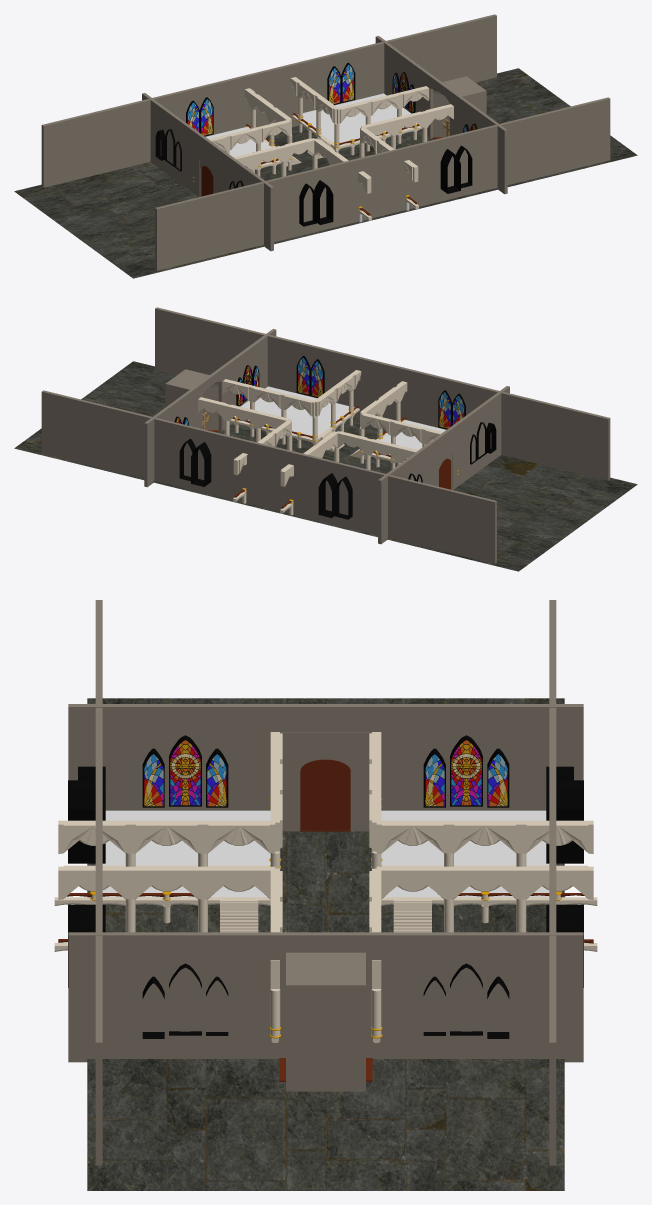
File: Eglise.v4.fbx
3 renders of one model, top to bottom at view 1: azimuth 30°, elevation 25°; view 2: azimuth 150°, elevation 25°; view 3: azimuth 270°, elevation 25°, orthographic. The views are drawn at different scales.
Parts seen in each view (by area): view 1: Cube.007, Cube.003, Plane, Cube.017, Cube.022, Cube.004, Cube.018, Cube.005, vitreaudroit.006, Cube.015, vitreaudroit.007, vitreaugauche (+4 smaller); view 2: Cube.003, Cube.007, Plane, Cube.017, Cube.022, Cube.004, Cube.027, Cube.005, vitreaudroit.001, Cube.016, vitreaudroit.008, vitreaugauche.005 (+4 smaller); view 3: Plane, Cube.004, Cube.022, Cube.017, Cube.005, Cube.015, Cube.016, Cube.024, Cube.003, Cube.007, Cube.023, vitreau principale (+11 smaller).
Part boxes in pixels (bbox=[...]): Cube.007: bbox=[155, 97, 610, 270]; Cube.003: bbox=[41, 14, 496, 187]; Plane: bbox=[14, 68, 637, 278]; Cube.017: bbox=[208, 77, 453, 193]; Cube.022: bbox=[142, 93, 273, 251]; Cube.004: bbox=[375, 36, 507, 194]; Cube.018: bbox=[297, 93, 419, 145]; Cube.005: bbox=[433, 76, 486, 137]; vitreaudroit.006: bbox=[440, 149, 460, 193]; Cube.015: bbox=[206, 127, 276, 165]; vitreaudroit.007: bbox=[314, 180, 333, 224]; vitreaugauche: bbox=[341, 62, 355, 102]; Cube.003: bbox=[41, 390, 496, 563]; Cube.007: bbox=[155, 307, 610, 480]; Plane: bbox=[14, 361, 637, 571]; Cube.017: bbox=[198, 370, 443, 486]; Cube.022: bbox=[378, 386, 509, 544]; Cube.004: bbox=[144, 329, 276, 487]; Cube.027: bbox=[232, 386, 354, 438]; Cube.005: bbox=[165, 369, 218, 430]; vitreaudroit.001: bbox=[191, 442, 211, 486]; Cube.016: bbox=[373, 420, 445, 458]; vitreaudroit.008: bbox=[318, 473, 337, 517]; vitreaugauche.005: bbox=[296, 355, 310, 395]; Plane: bbox=[87, 698, 564, 1190]; Cube.004: bbox=[68, 932, 583, 1062]; Cube.022: bbox=[68, 704, 583, 810]; Cube.017: bbox=[58, 732, 593, 988]; Cube.005: bbox=[286, 952, 365, 1091]; Cube.015: bbox=[381, 810, 549, 897]; Cube.016: bbox=[102, 810, 270, 897]; Cube.024: bbox=[280, 732, 371, 831]; Cube.003: bbox=[549, 600, 556, 1165]; Cube.007: bbox=[95, 600, 102, 1165]; Cube.023: bbox=[300, 759, 350, 831]; vitreau principale: bbox=[169, 735, 201, 806].
Size of the model in its own units: 32218 by 4125 by 15000.
